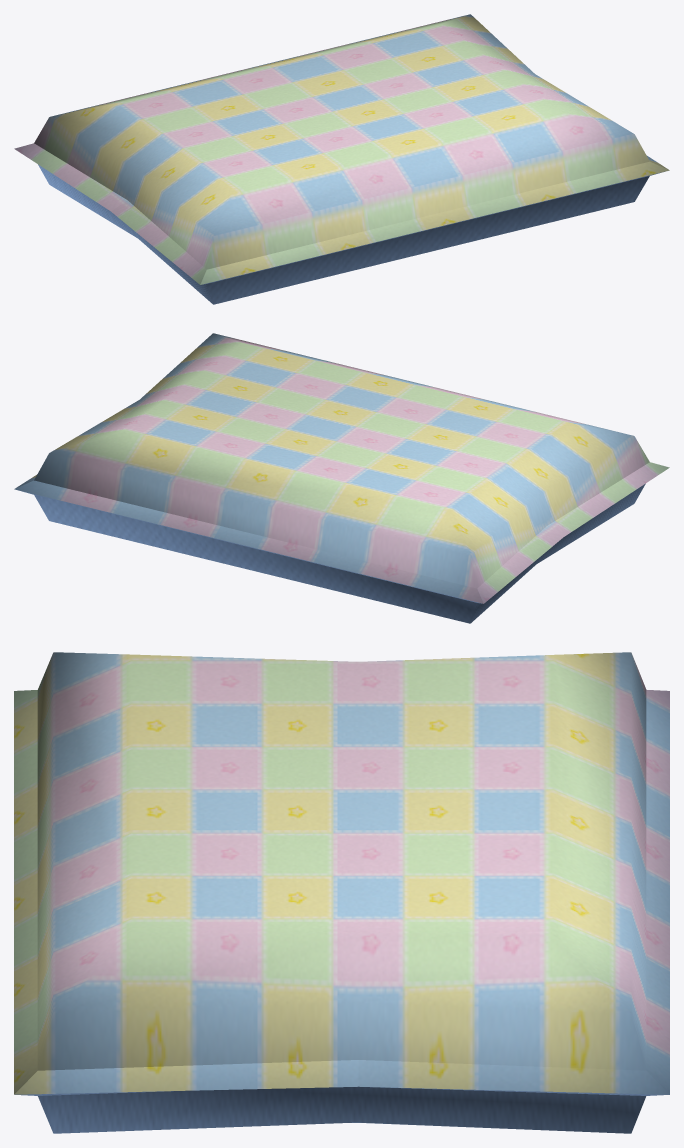
File: Childrens_Pillow_G2.FBX
3 renders of one model, top to bottom at view 1: azimuth 30°, elevation 25°; view 2: azimuth 150°, elevation 25°; view 3: azimuth 270°, elevation 25°, orthographic. The views are drawn at different scales.
Parts seen in each view (by area): view 1: Pillow; view 2: Pillow; view 3: Pillow.
Part boxes in pixels (bbox=[...]): Pillow: bbox=[14, 14, 669, 304]; Pillow: bbox=[14, 333, 669, 623]; Pillow: bbox=[14, 652, 669, 1133].
Size of the model in its own units: 194 by 41.64 by 133.
